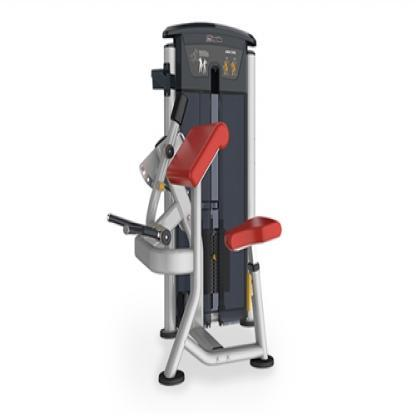arm curl machine: (107, 20, 282, 386)
